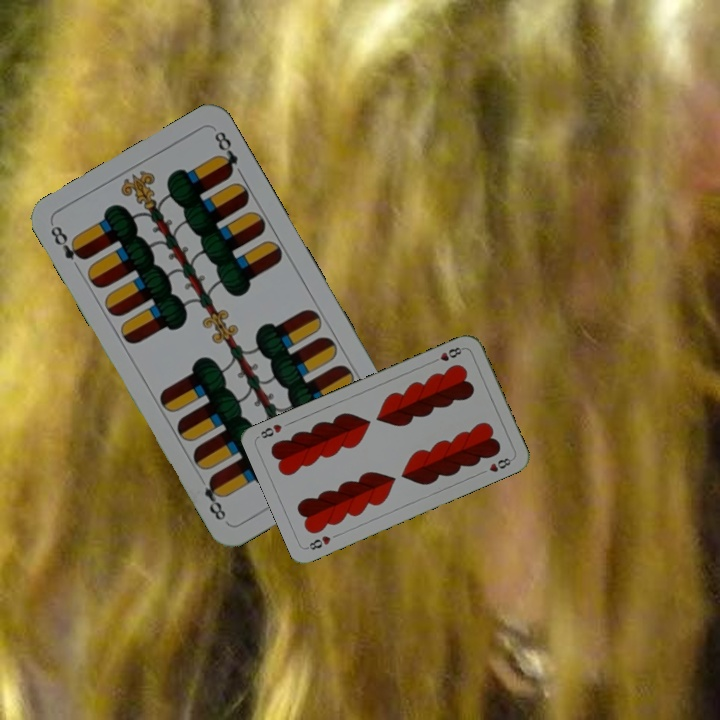E8: (46, 221, 89, 263)
H8: (428, 343, 467, 366), (303, 532, 333, 553)
